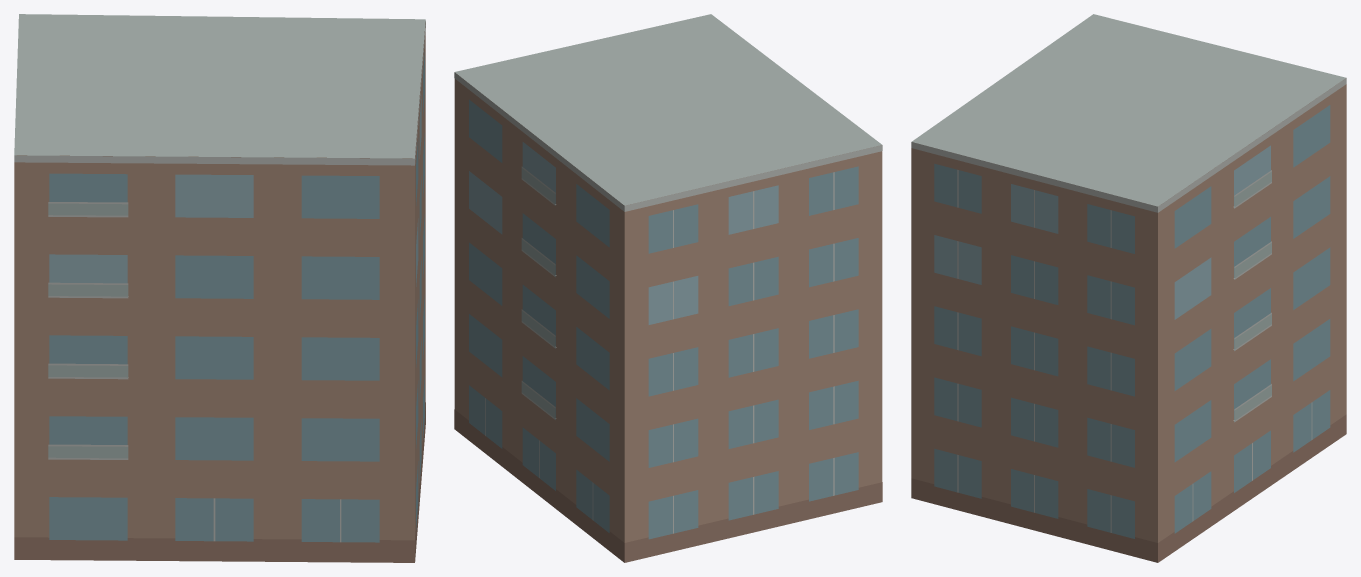
File: survey-upis-32931513.glb
3 renders of one model, left to right at view 1: azimuth 30°, elevation 25°; view 2: azimuth 150°, elevation 25°; view 3: azimuth 270°, elevation 25°, orthographic. The views are drawn at different scales.
Parts seen in each view (by area): view 1: survey-upis-32931513.tmp; view 2: survey-upis-32931513.tmp; view 3: survey-upis-32931513.tmp.
Part boxes in pixels (x1,y1,x2,y2): survey-upis-32931513.tmp: [14, 14, 425, 562]; survey-upis-32931513.tmp: [454, 14, 882, 562]; survey-upis-32931513.tmp: [911, 14, 1346, 562].
Size of the model in its own units: 16.24 by 14 by 15.51.
